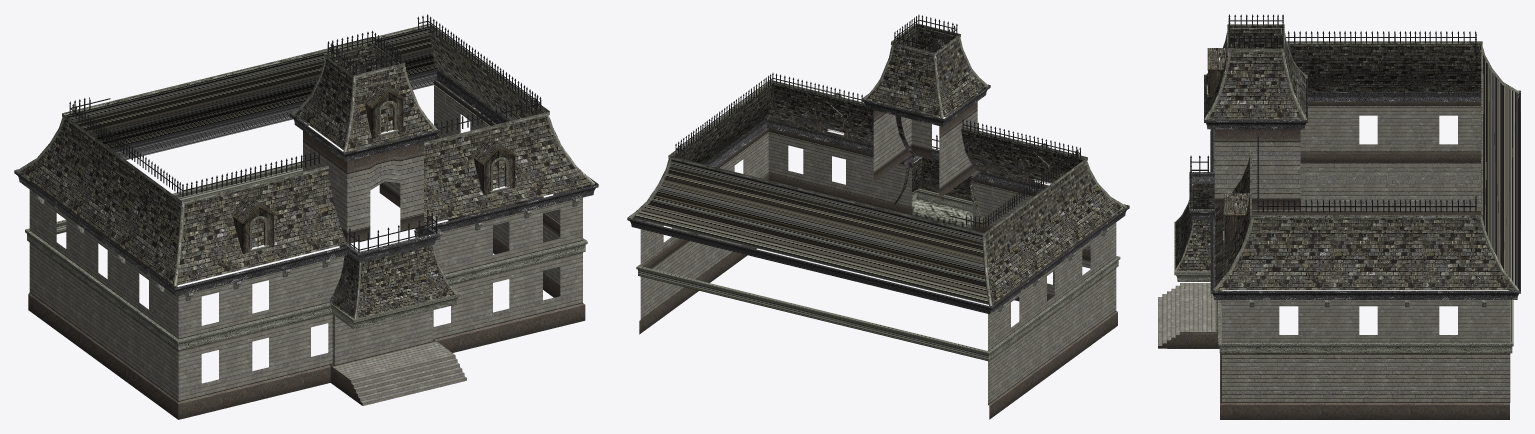
The model's file is manorMesh.fbx.
3 views of the same model, side by side, from view 1: azimuth 30°, elevation 25°; view 2: azimuth 150°, elevation 25°; view 3: azimuth 270°, elevation 25° (orthographic). The views are drawn at different scales.
Visible parts, largest first — view 1: polySurface1483, polySurface1040, polySurface1484; view 2: polySurface1483, polySurface1040, polySurface1484; view 3: polySurface1483, polySurface1040, polySurface1484.
Boxes of the visible parts, x1=… form: polySurface1483: x1=14, y1=23, x2=598, y2=350; polySurface1040: x1=28, y1=80, x2=585, y2=419; polySurface1484: x1=69, y1=14, x2=541, y2=252; polySurface1483: x1=627, y1=23, x2=1129, y2=361; polySurface1040: x1=639, y1=94, x2=1117, y2=419; polySurface1484: x1=675, y1=14, x2=1080, y2=229; polySurface1483: x1=1174, y1=24, x2=1520, y2=353; polySurface1040: x1=1158, y1=101, x2=1510, y2=419; polySurface1484: x1=1190, y1=14, x2=1476, y2=212.
Bounding box in the file's own units: 2984 × 2089 × 2288.
